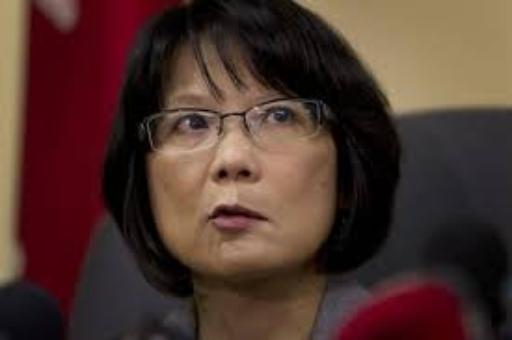left_eye: (262, 108, 306, 129)
left_lip_corner: (257, 213, 277, 229)
right_eye: (173, 117, 213, 137)
right_lip_corner: (201, 211, 216, 228)
